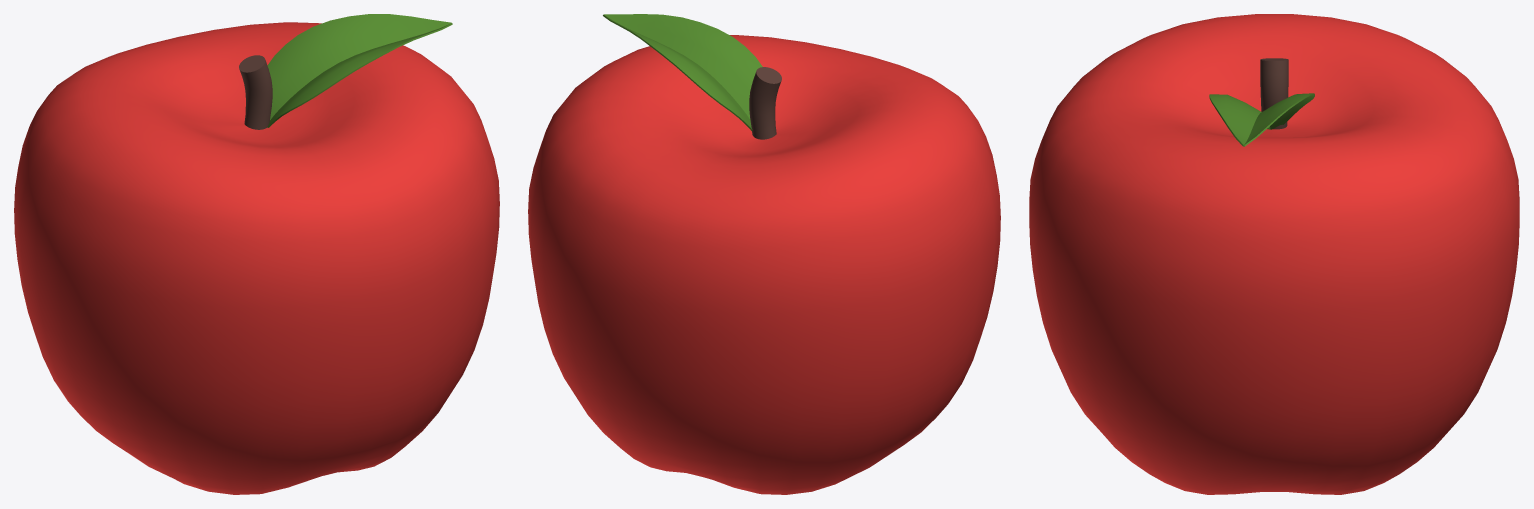
The model's file is red_apple.glb.
3 views of the same model, side by side, from view 1: azimuth 30°, elevation 25°; view 2: azimuth 150°, elevation 25°; view 3: azimuth 270°, elevation 25° (orthographic). The views are drawn at different scales.
Parts seen in each view (by area): view 1: Sphere.008; view 2: Sphere.008; view 3: Sphere.008.
Part boxes in pixels (x1,y1,x2,y2): Sphere.008: [14, 14, 499, 494]; Sphere.008: [528, 14, 1000, 494]; Sphere.008: [1029, 14, 1519, 494].
Size of the model in its own units: 2.12 by 1.92 by 2.1.
Materials: 1 (1 with a texture image).
